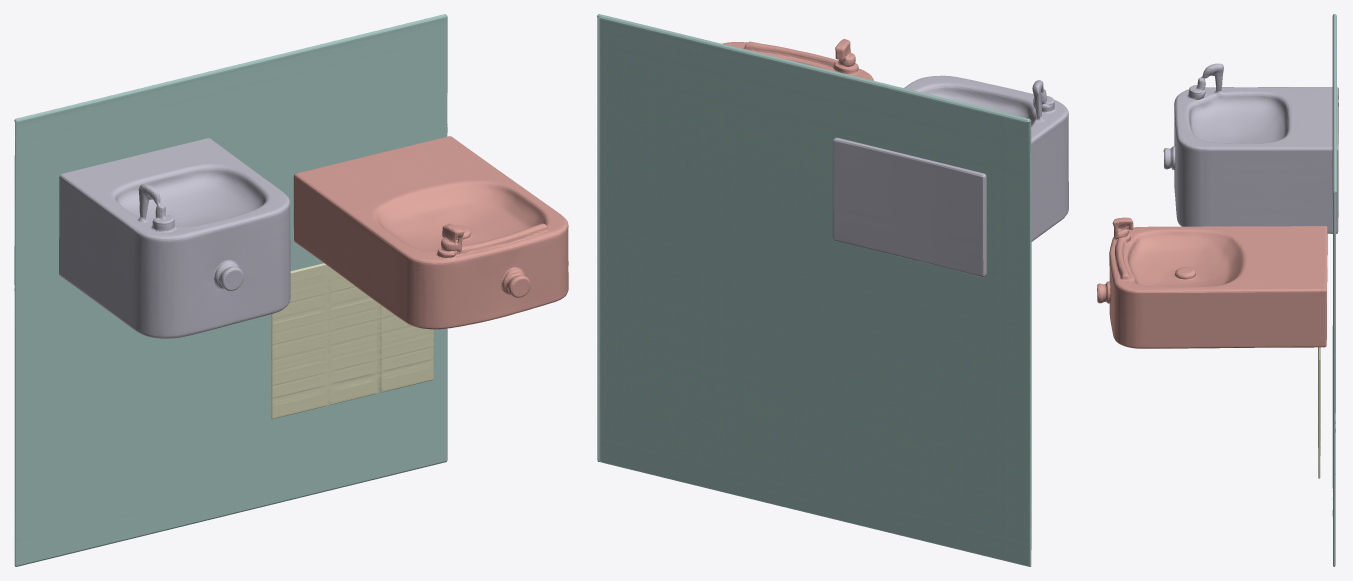
File: image5_0.glb
The picture shows the model from 3 angles, left to right: view 1: azimuth 30°, elevation 25°; view 2: azimuth 150°, elevation 25°; view 3: azimuth 270°, elevation 25°; orthographic projection. The views are drawn at different scales.
Parts seen in each view (by area): view 1: world; view 2: world; view 3: world.
Boxes of the visible parts, <box> form: world: <box>14,14,568,566</box>; world: <box>597,14,1068,566</box>; world: <box>1097,14,1338,566</box>.
Size of the model in its own units: 1.68 by 1.65 by 0.9617.
